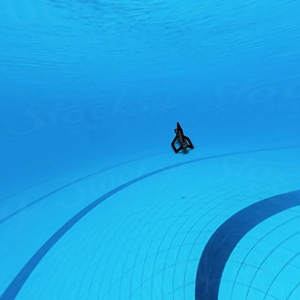submarine: (171, 122, 194, 157)
